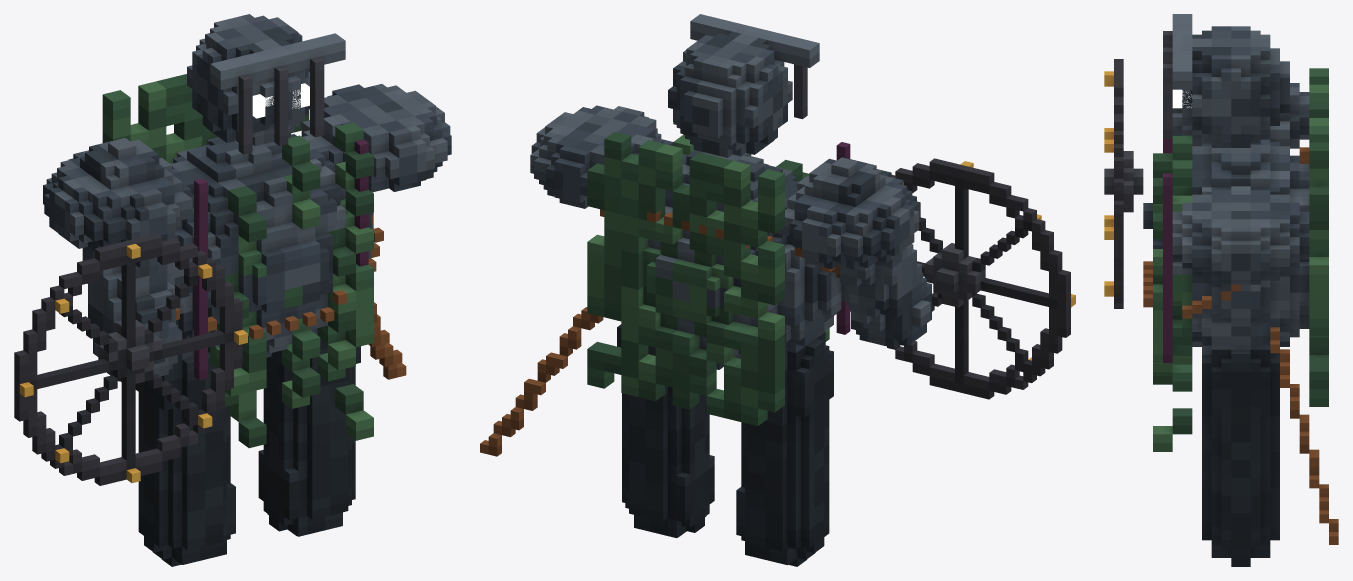
File: u_hale.glb
3 views of the same model, side by side, from view 1: azimuth 30°, elevation 25°; view 2: azimuth 150°, elevation 25°; view 3: azimuth 270°, elevation 25° (orthographic). The views are drawn at different scales.
Parts seen in each view (by area): view 1: hale_body, hale_glow; view 2: hale_body; view 3: hale_body.
Boxes of the visible parts, x1,y1,x2,y2 form: hale_body: (14,14,451,566); hale_glow: (252,83,309,118); hale_body: (480,14,1075,566); hale_body: (1104,14,1338,566).
Size of the model in its own units: 1.4 by 1.37 by 0.6.
